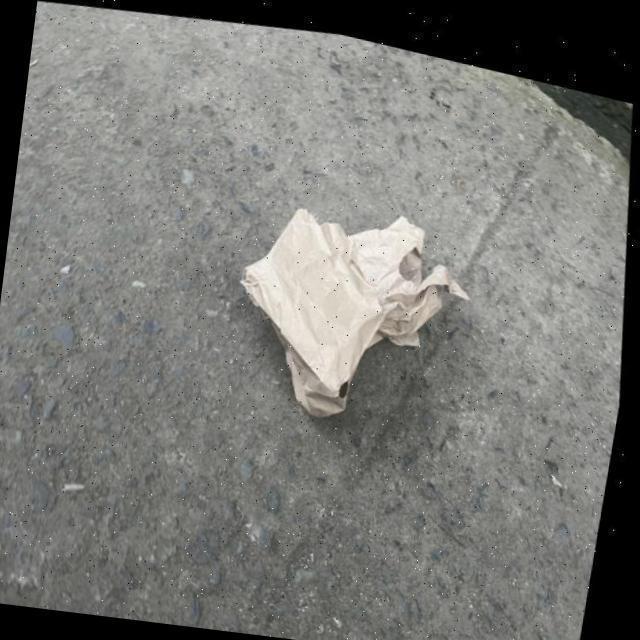Paper_Bag: (217, 163, 500, 450)
